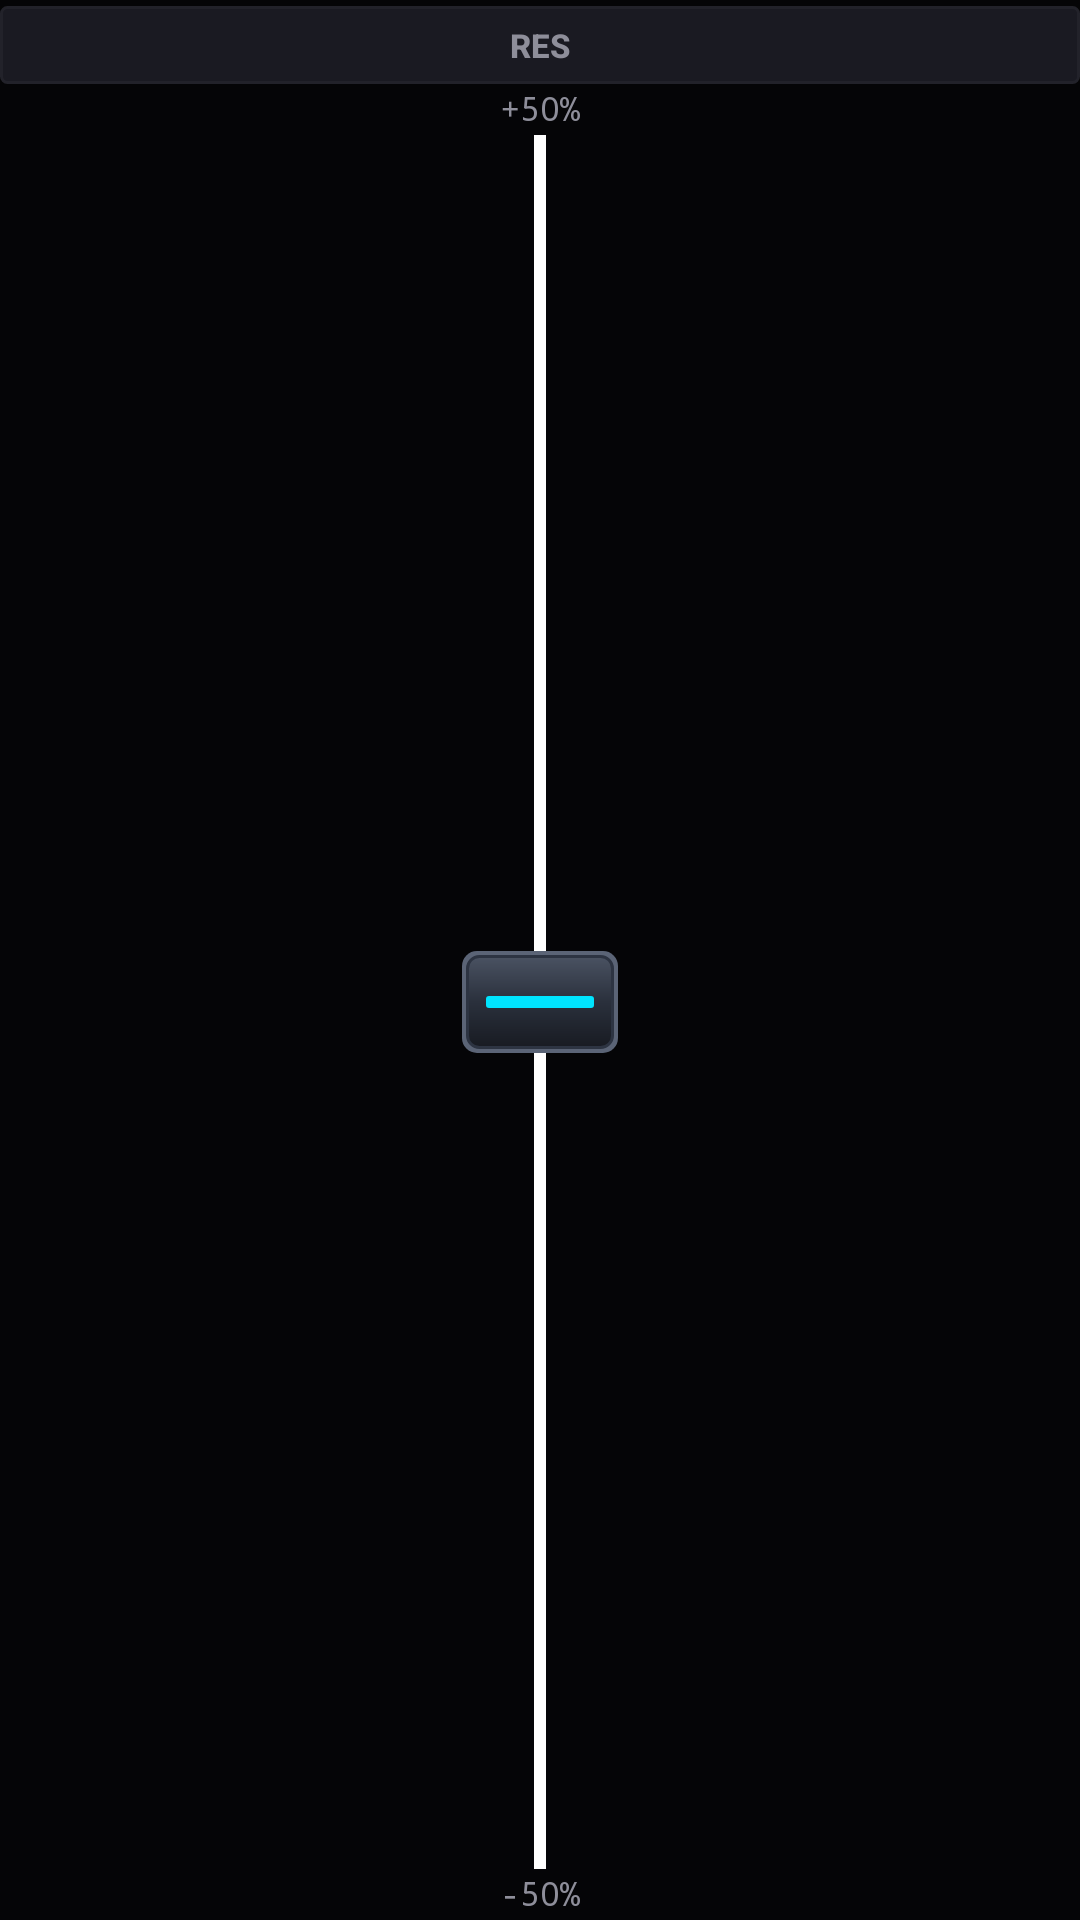

Where to tap for icons on this 1080 × 1920 app screen, as [x,y]:
fader cap: [540,1002]
